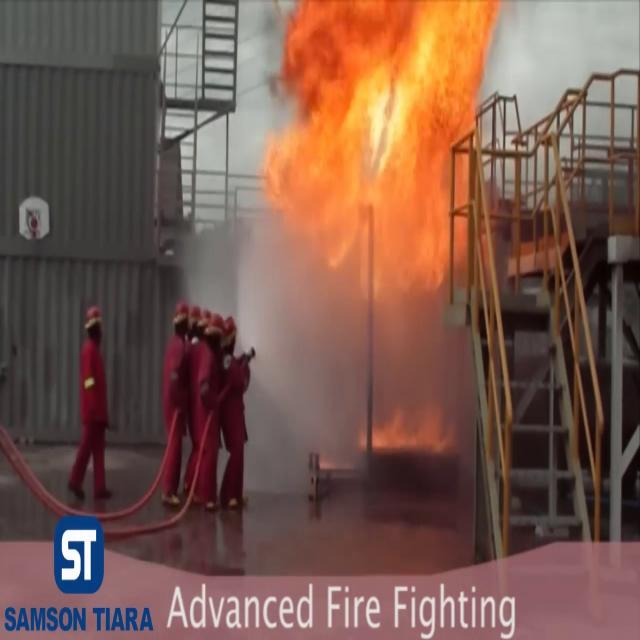Fire: (248, 1, 502, 288)
